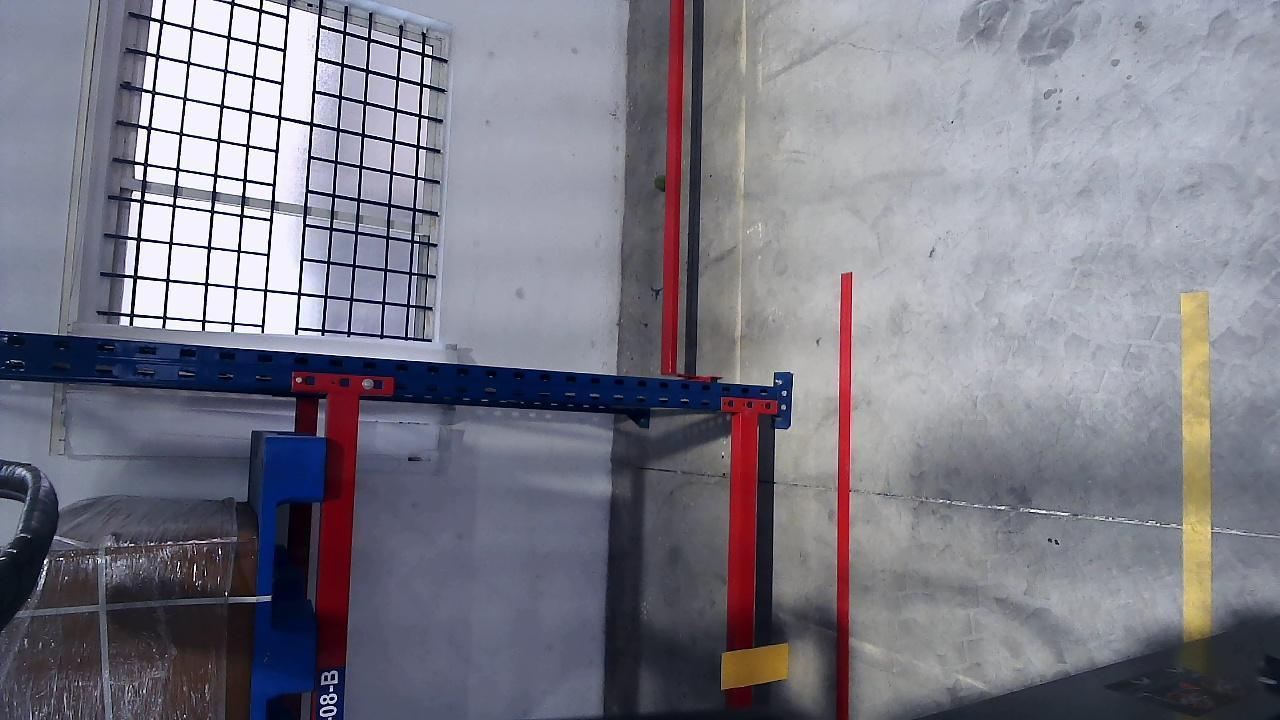red_line: (834, 271, 854, 718)
yellow_line: (1180, 298, 1213, 635)
